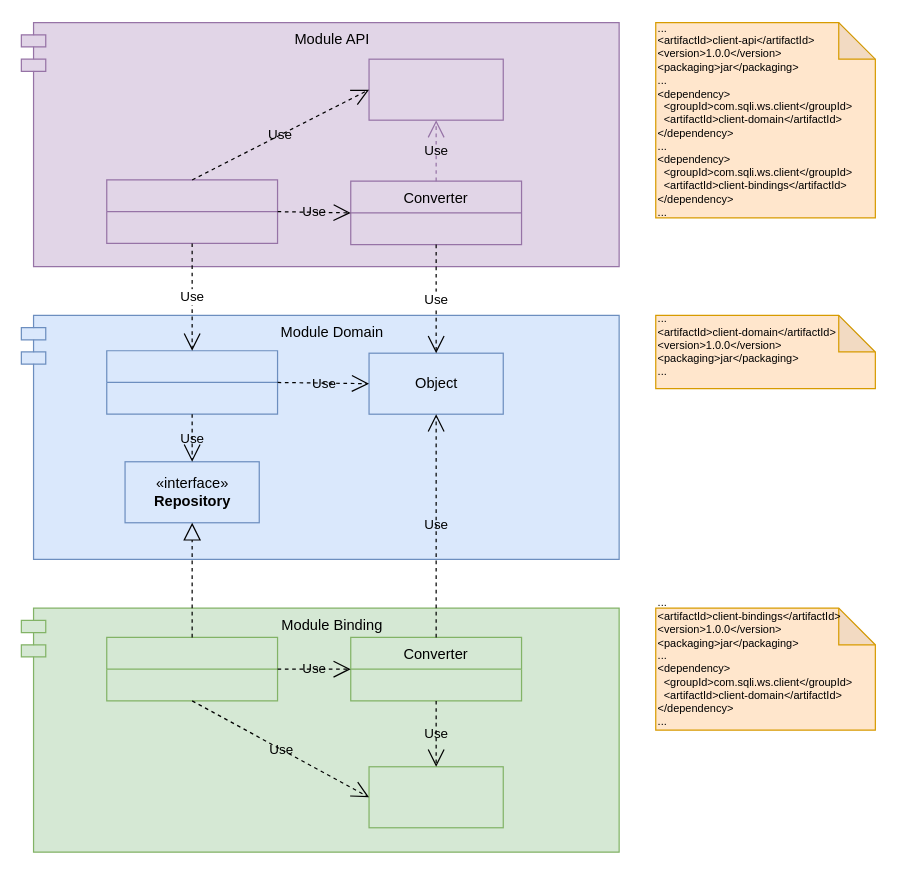
This 897x874 diagram has some shape labels left out. The centre of each missing label's shape, as x and y in pixels:
"Controller" goes at point (192, 211).
"DTO" goes at point (435, 89).
"Entity" goes at point (435, 797).
"RepositoryImpl" goes at point (192, 668).
"Service" goes at point (192, 382).
